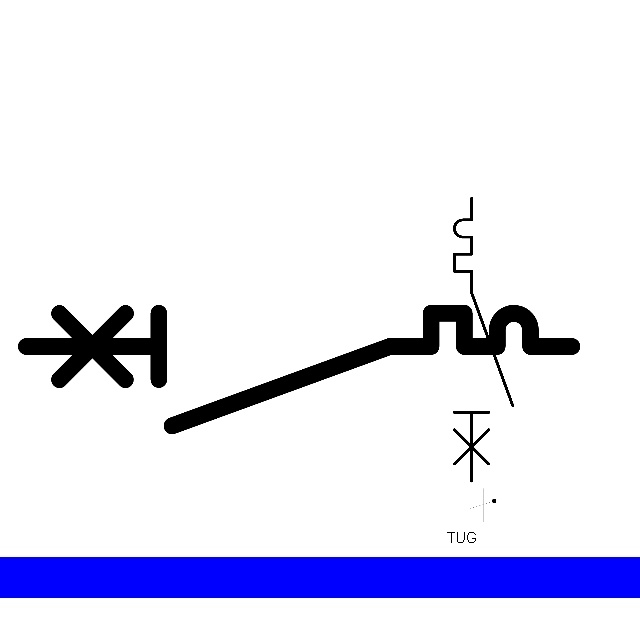interruptor_termomagnetico: (12, 299, 586, 439), (447, 191, 520, 489)
